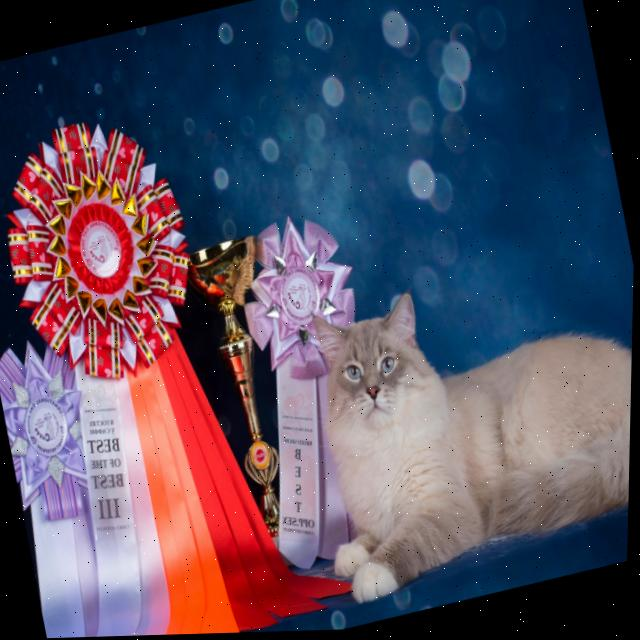Neva Masquerade: (277, 237, 636, 617)
